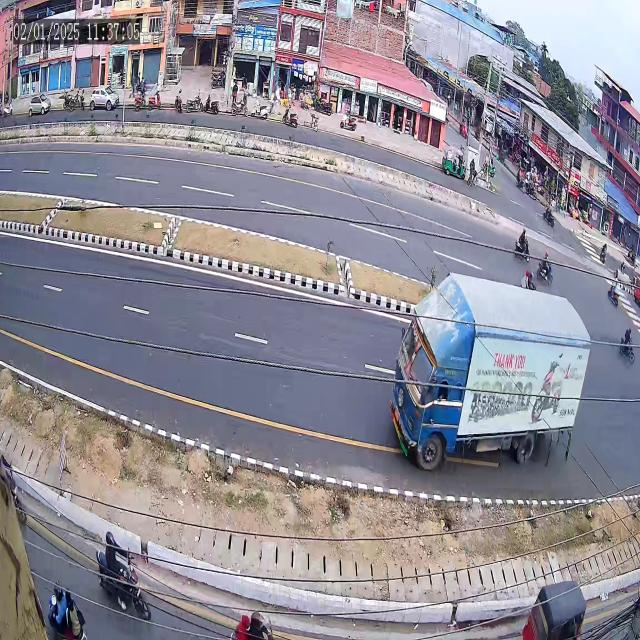motorcycle: (85, 521, 163, 622), (615, 316, 638, 368), (506, 218, 531, 262), (537, 249, 557, 284), (539, 194, 556, 235), (605, 276, 623, 308), (596, 232, 610, 273)
truck: (374, 253, 592, 483)
